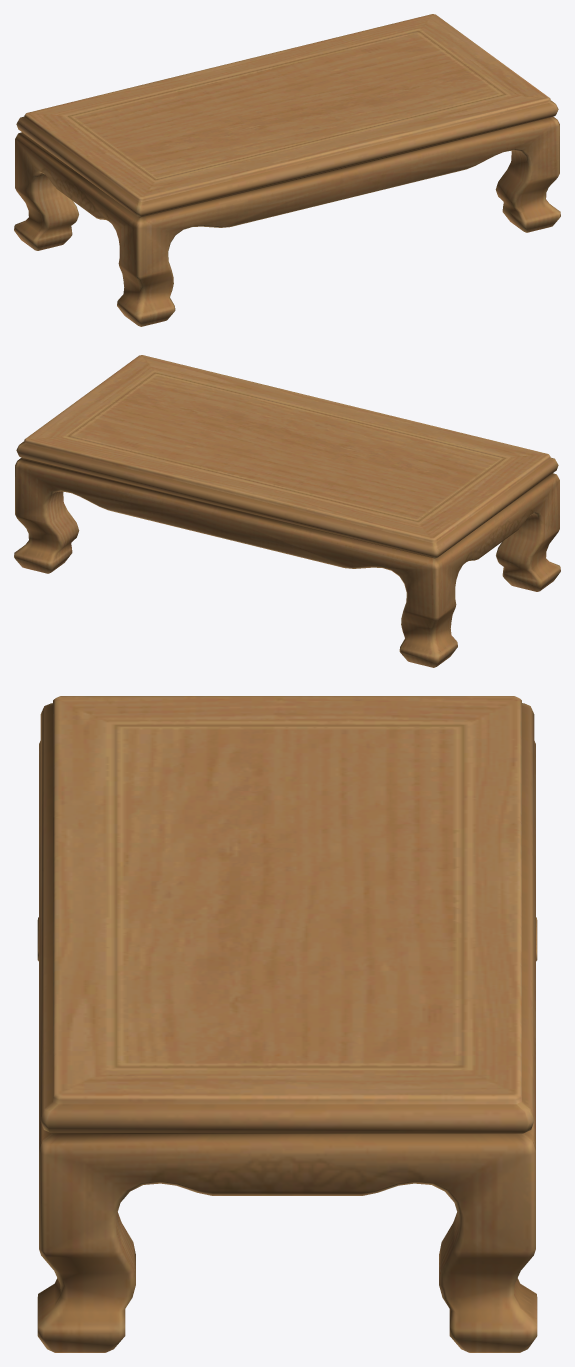
Rendered from lounge-table.glb.
3 views of the same model, one above another, from view 1: azimuth 30°, elevation 25°; view 2: azimuth 150°, elevation 25°; view 3: azimuth 270°, elevation 25° (orthographic). The views are drawn at different scales.
Parts seen in each view (by area): view 1: Scene; view 2: Scene; view 3: Scene.
Boxes of the visible parts, x1=… form: Scene: x1=14, y1=14, x2=560, y2=326; Scene: x1=14, y1=355, x2=560, y2=667; Scene: x1=37, y1=696, x2=537, y2=1352.
Bounding box in the file's own units: 17.98 × 5.2 × 9.16.
1 material, 1 textured.
